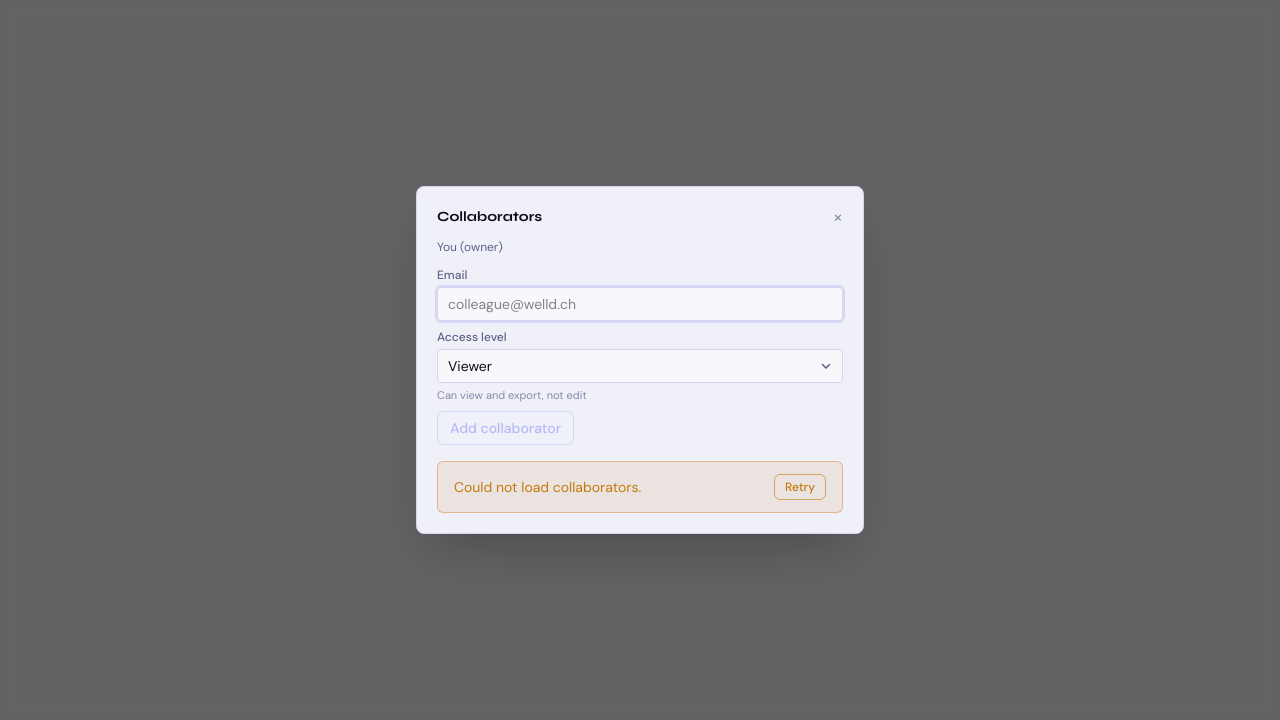
CollaboratorsDialog — owner mode (T20, specs/013) › load error › shows a load-error state with Retry while the add form stays usable, then recovers
Expected: the message "Could not load collaborators. Retry" is shown, [437,461,843,513]
Expected: the field with test id "collaborators-dialog-email-input" is enabled, [437,287,843,321]
Step 1. Click the button "Retry" → click(800, 487), box [774,474,826,500]
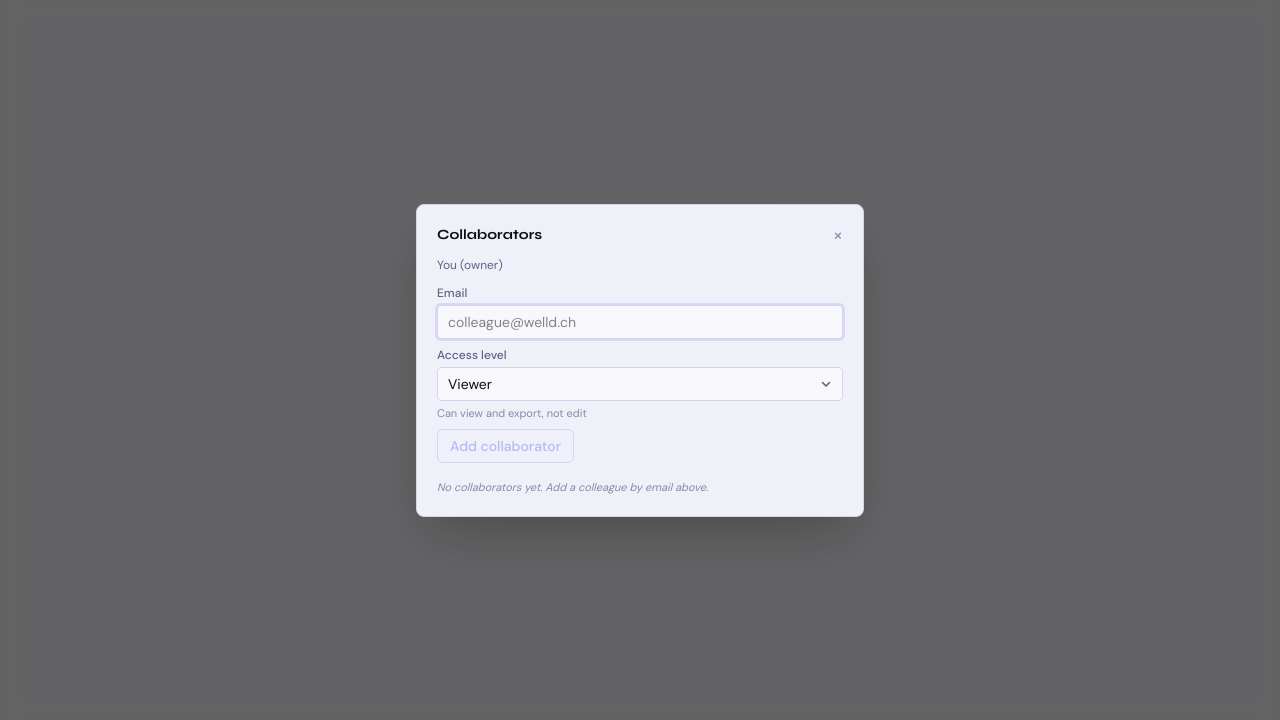
Expected: the text "No collaborators yet. Add a colleague by email above." is shown, [437,480,708,494]
